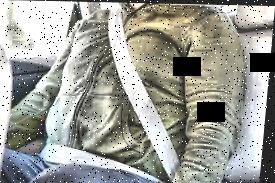seatbelt: (44, 7, 195, 180)
